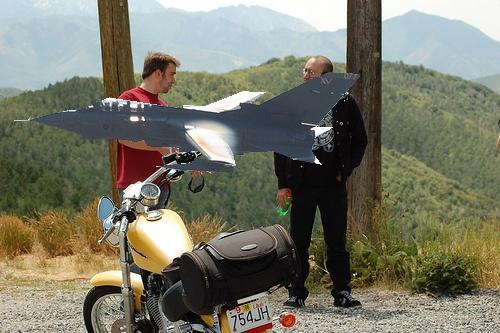tampered: (15, 73, 360, 172)
